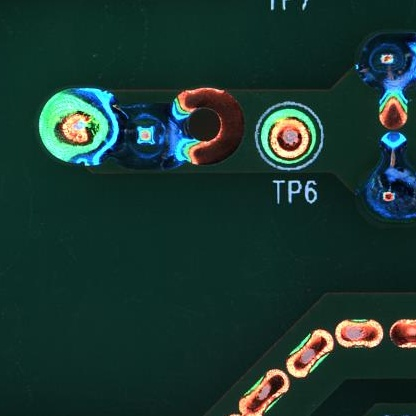spot: (109, 100, 177, 169), (357, 161, 416, 225), (356, 29, 416, 87), (259, 110, 316, 166)
